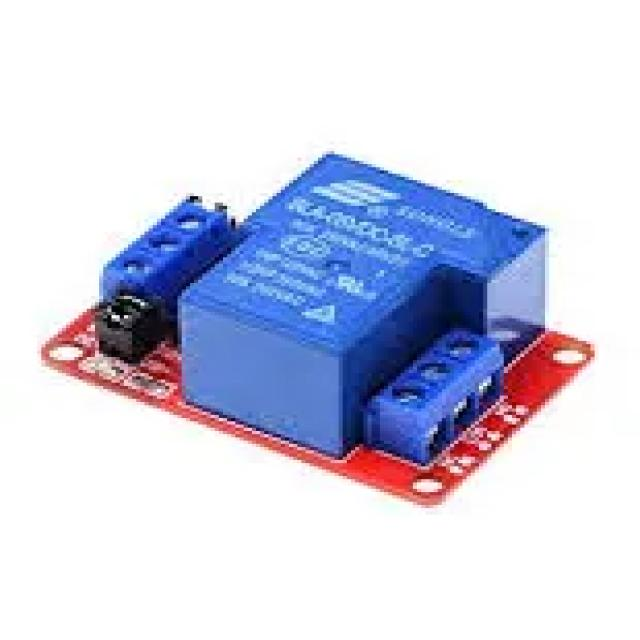Relay: (255, 157, 530, 277), (180, 295, 375, 456), (366, 328, 506, 463), (94, 293, 170, 364), (162, 198, 225, 242)
